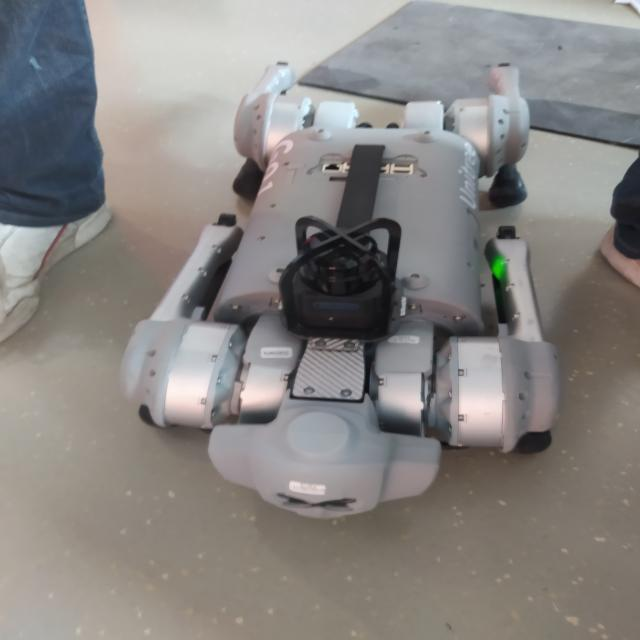unitree-go1-robot: (116, 46, 589, 531)
